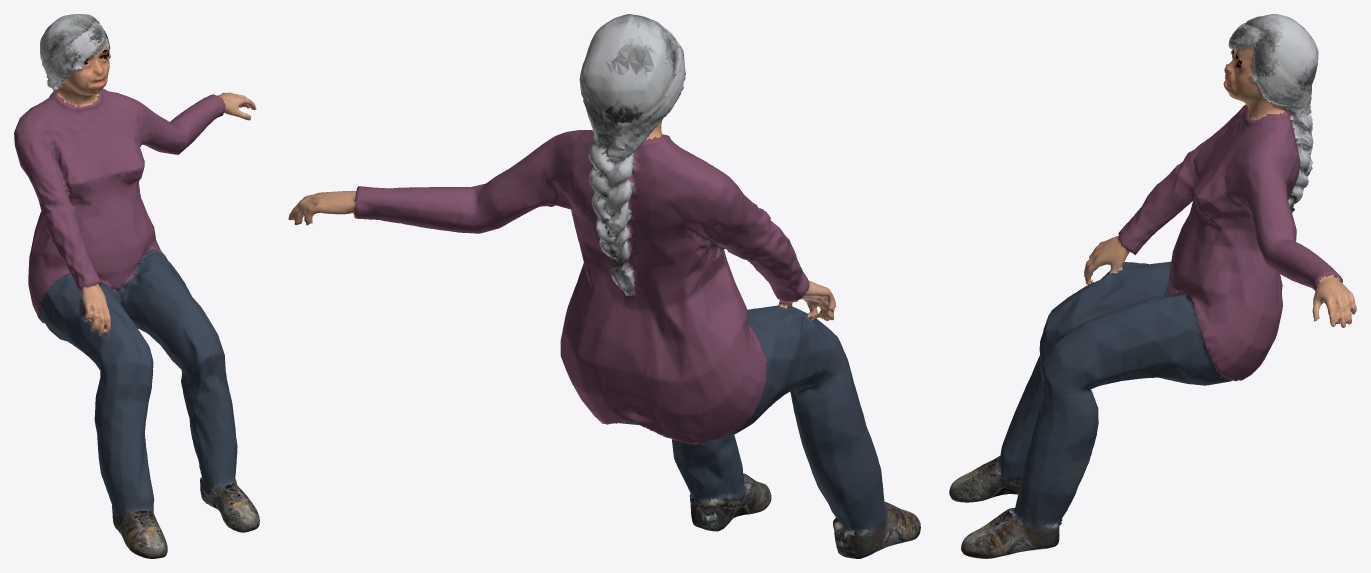
File: terrace-reader.glb
3 views of the same model, side by side, from view 1: azimuth 30°, elevation 25°; view 2: azimuth 150°, elevation 25°; view 3: azimuth 270°, elevation 25° (orthographic). The views are drawn at different scales.
Parts seen in each view (by area): view 1: terrace-reader; view 2: terrace-reader; view 3: terrace-reader.
Part boxes in pixels (x1=…): terrace-reader: x1=14, y1=14, x2=259, y2=558; terrace-reader: x1=288, y1=14, x2=920, y2=558; terrace-reader: x1=949, y1=14, x2=1356, y2=558.
Size of the model in its own units: 0.8699 by 1.3 by 0.9393.
Materials: 9 (9 with a texture image).
